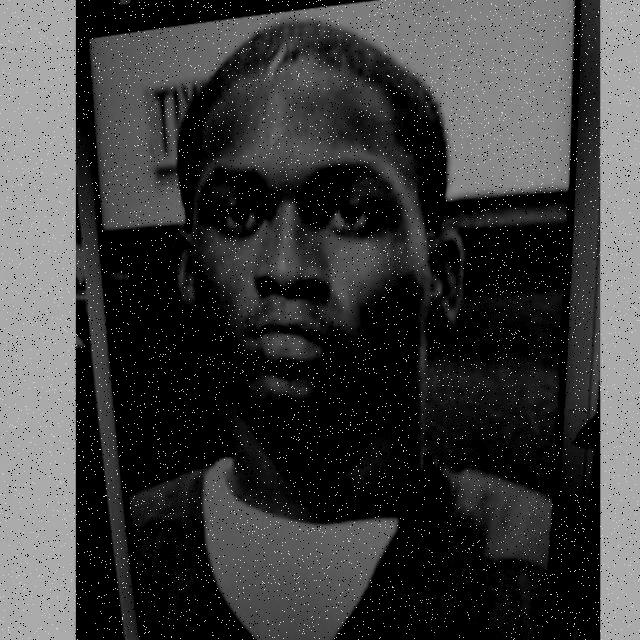fake: (79, 0, 603, 640)
